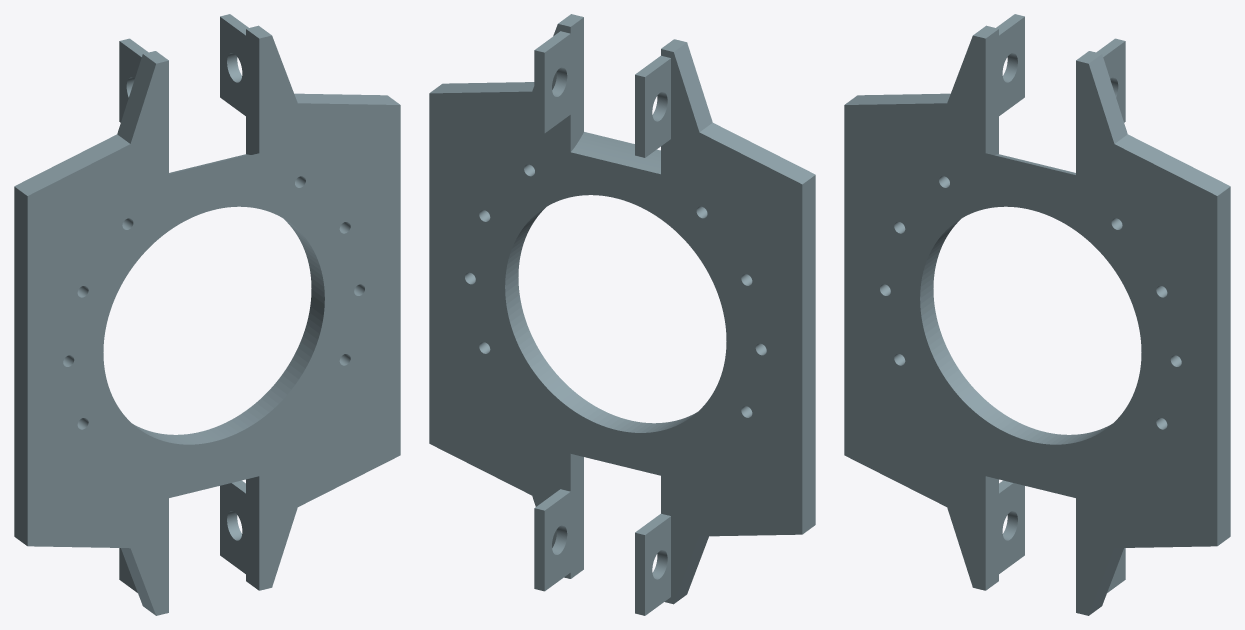
Rendered from upright_WD220_C02_R02.glb.
The picture shows the model from 3 angles, left to right: view 1: azimuth 30°, elevation 25°; view 2: azimuth 150°, elevation 25°; view 3: azimuth 330°, elevation 25°; orthographic projection.
Visible parts, largest first — view 1: upright_WD220_C02_R02; view 2: upright_WD220_C02_R02; view 3: upright_WD220_C02_R02.
Boxes of the visible parts, left/top/right/bottom form: upright_WD220_C02_R02: left=14, top=14, right=400, bottom=615; upright_WD220_C02_R02: left=429, top=14, right=815, bottom=615; upright_WD220_C02_R02: left=844, top=14, right=1230, bottom=615.
Size of the model in its own units: 0.29 by 0.41 by 0.053.
